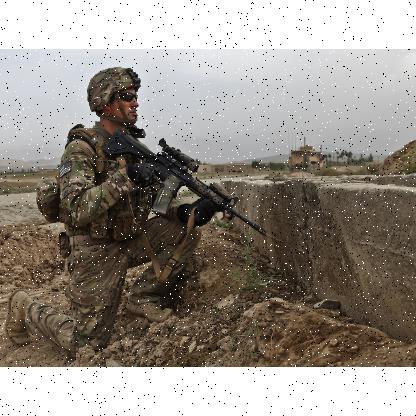gun: (109, 136, 253, 242)
